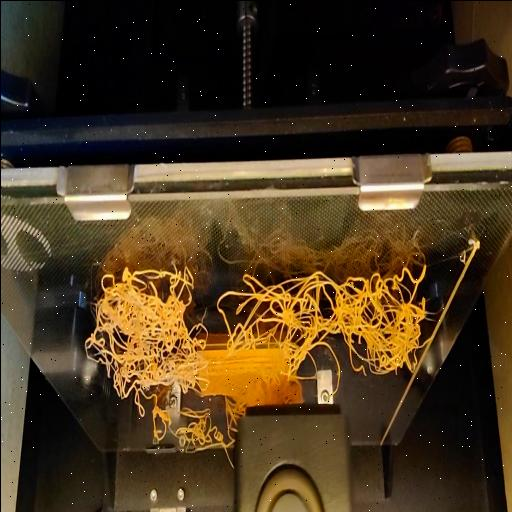spaghetti: (84, 260, 422, 408), (147, 410, 237, 464)
